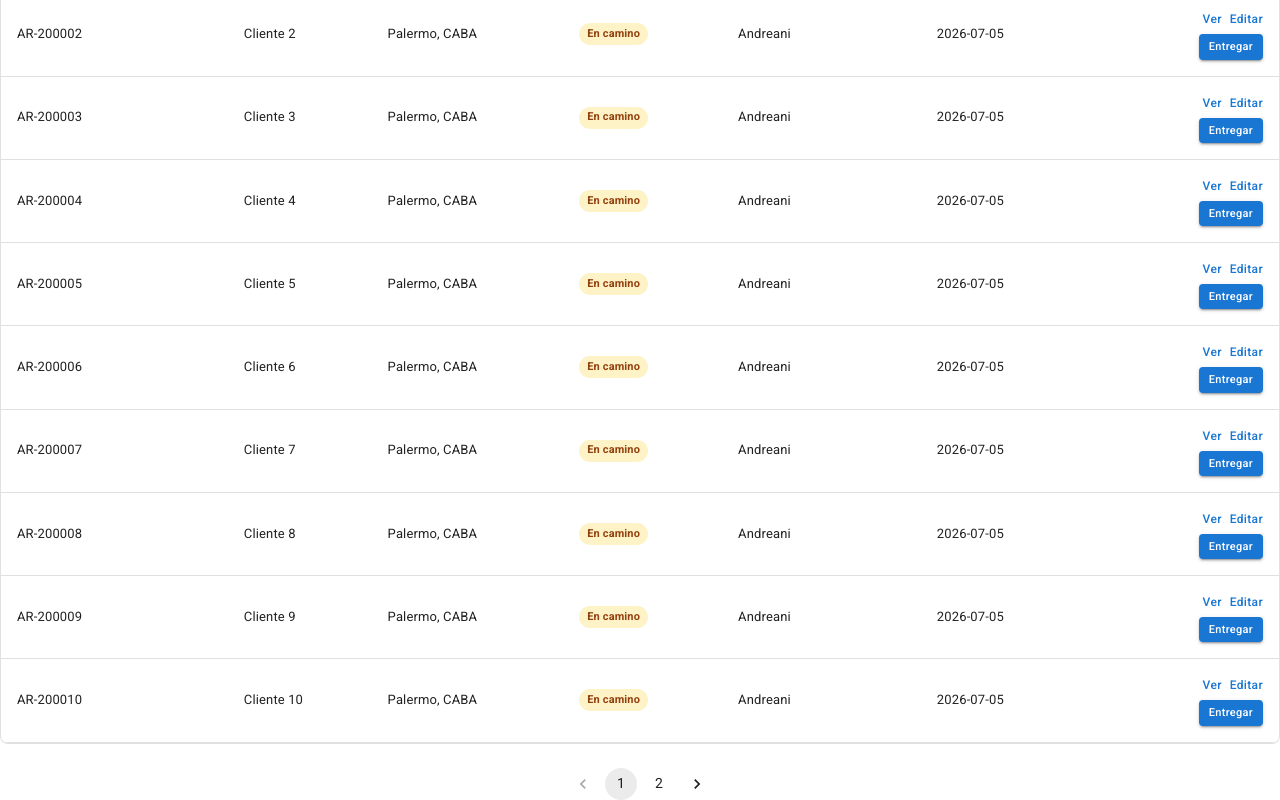
Test: ShipmentsPage › al buscar vuelve a la primera página
(page scrolled)
Click the button named "page 2": (659, 784) [643,768,675,799]
(page scrolled)
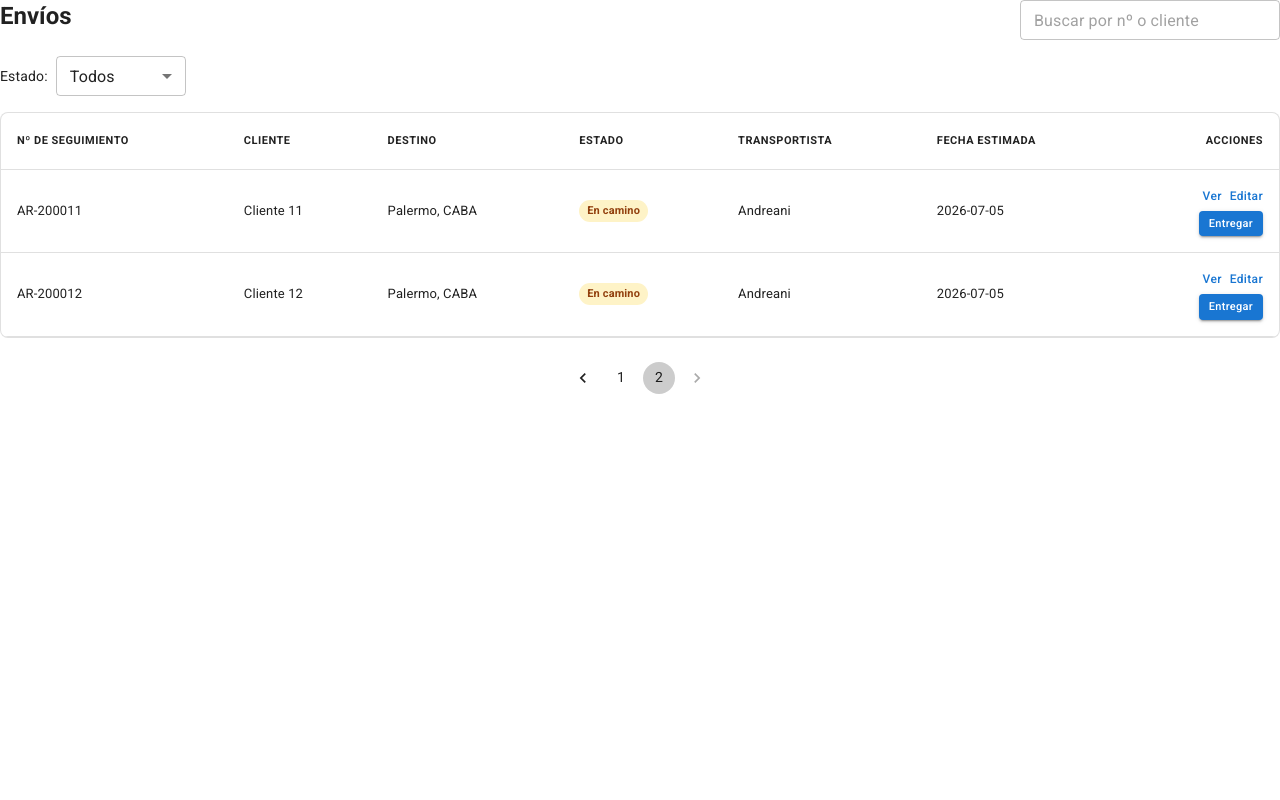
Click the field with placeholder "Buscar por nº o cliente": (1150, 20) [1020,0,1279,40]
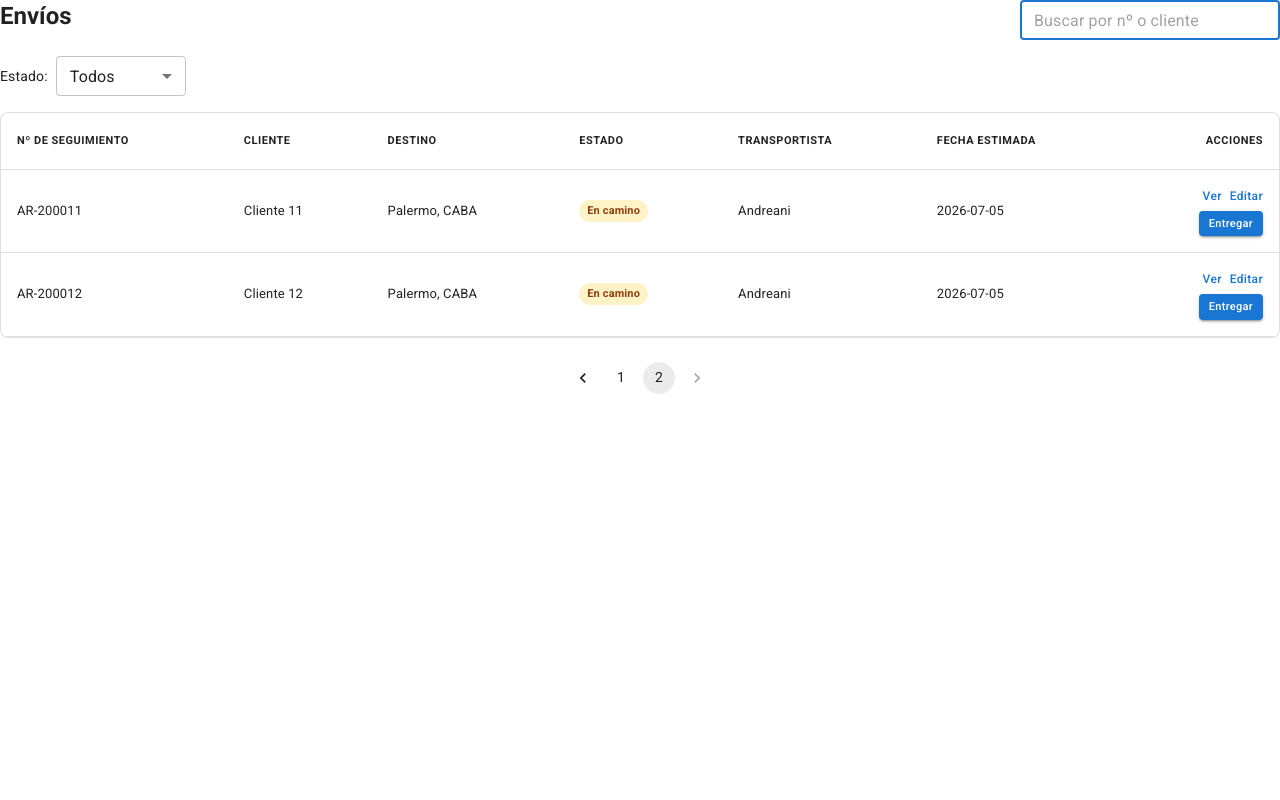
Type keys "AR-200003"
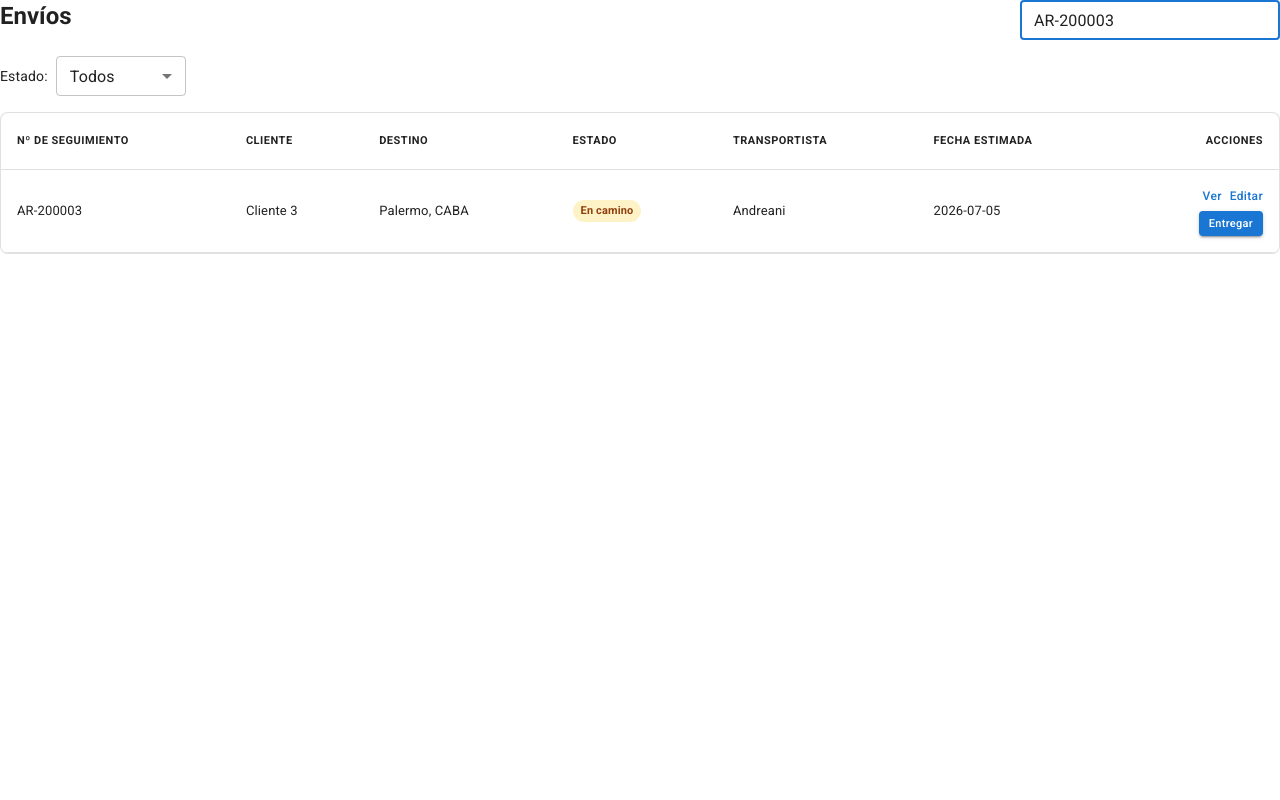
Expected: the text "AR-200003" is shown, [1,170,230,253]
